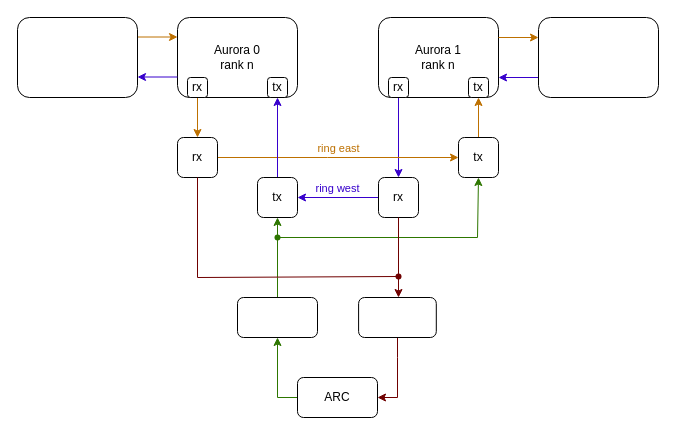
Some shapes in this 676 by 435 pixel diagram are drawn without their labels. The shapes that lost their labels are listed below. From the top down, each one's centre as x and y in pixels, then its label:
the point at 77,57: Aurora 1 rank n - 1
the point at 598,57: Aurora 0 rank n + 1
the point at 277,317: offload_in
the point at 397,317: offload_out
